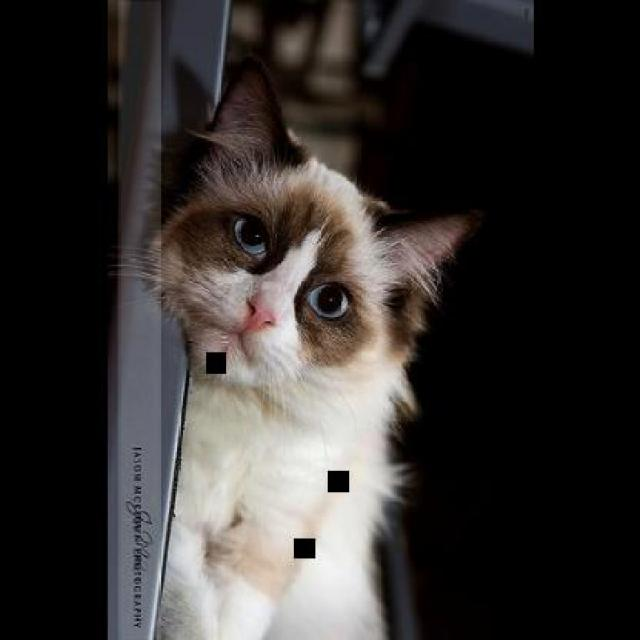unauthorized: (110, 54, 478, 638)
